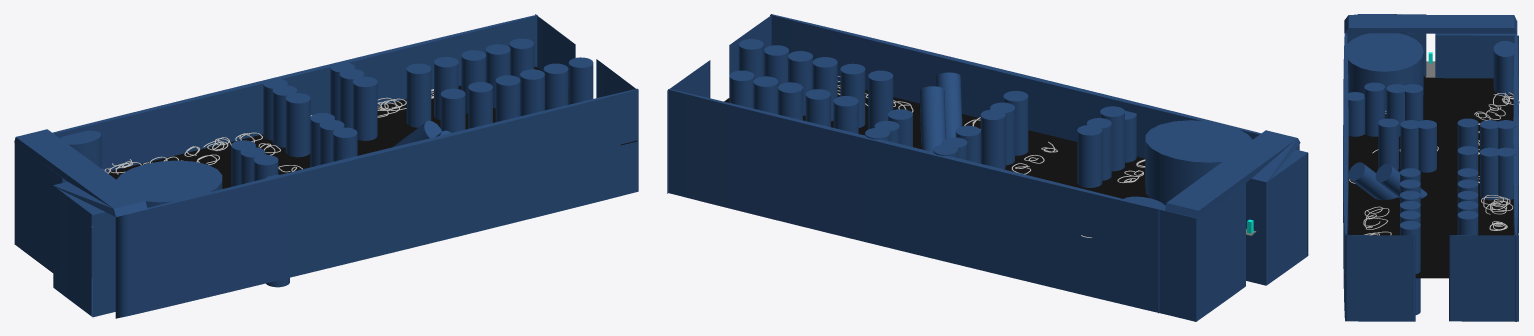
The model's file is srt.obj.
3 views of the same model, side by side, from view 1: azimuth 30°, elevation 25°; view 2: azimuth 150°, elevation 25°; view 3: azimuth 270°, elevation 25° (orthographic). The views are drawn at different scales.
Parts seen in each view (by area): view 1: blockade11, blockade2, blockade16, blockade15, pCube1, blockade1, blockade9, blockade26, blockade23, blockade14, blockade33, blockade36 (+21 smaller); view 2: blockade2, blockade11, blockade16, blockade15, blockade1, pCube1, blockade6, blockade20, blockade19, blockade32, blockade22, blockade37 (+18 smaller); view 3: pCube1, blockade13, blockade14, blockade1, blockade16, blockade15, blockade11, blockade2, blockade10, blockade4, blockade17, blockade24 (+26 smaller).
Part boxes in pixels (x1,y1,x2,y2): blockade11: [115, 88, 638, 318]; blockade2: [14, 14, 537, 244]; blockade16: [14, 129, 147, 317]; blockade15: [15, 143, 67, 272]; pCube1: [107, 66, 636, 188]; blockade1: [116, 160, 222, 207]; blockade9: [285, 93, 310, 157]; blockade26: [406, 63, 431, 127]; blockade23: [353, 76, 377, 140]; blockade14: [535, 14, 575, 89]; blockade33: [568, 57, 593, 104]; blockade36: [495, 75, 520, 121]; blockade2: [668, 89, 1197, 321]; blockade11: [770, 14, 1299, 158]; blockade16: [1165, 130, 1308, 285]; blockade15: [1158, 183, 1245, 321]; blockade1: [1145, 120, 1252, 205]; pCube1: [724, 83, 1149, 198]; blockade6: [1077, 125, 1102, 187]; blockade20: [919, 86, 946, 151]; blockade19: [980, 109, 1005, 169]; blockade32: [868, 70, 893, 129]; blockade22: [935, 72, 962, 138]; blockade37: [840, 63, 865, 127]; pCube1: [1344, 76, 1513, 278]; blockade13: [1345, 235, 1415, 321]; blockade14: [1449, 235, 1518, 321]; blockade1: [1347, 33, 1423, 114]; blockade16: [1344, 14, 1516, 76]; blockade15: [1435, 21, 1518, 114]; blockade11: [1343, 33, 1348, 321]; blockade2: [1513, 25, 1518, 321]; blockade10: [1493, 40, 1514, 95]; blockade4: [1364, 82, 1385, 136]; blockade17: [1378, 118, 1398, 170]; blockade24: [1480, 147, 1500, 200].
Bounding box in the file's own units: 133 × 27.65 × 44.83.
